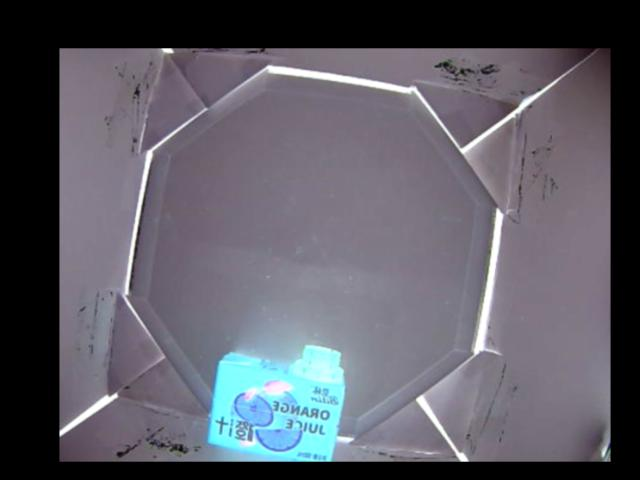Bottle: (204, 345, 345, 459)
